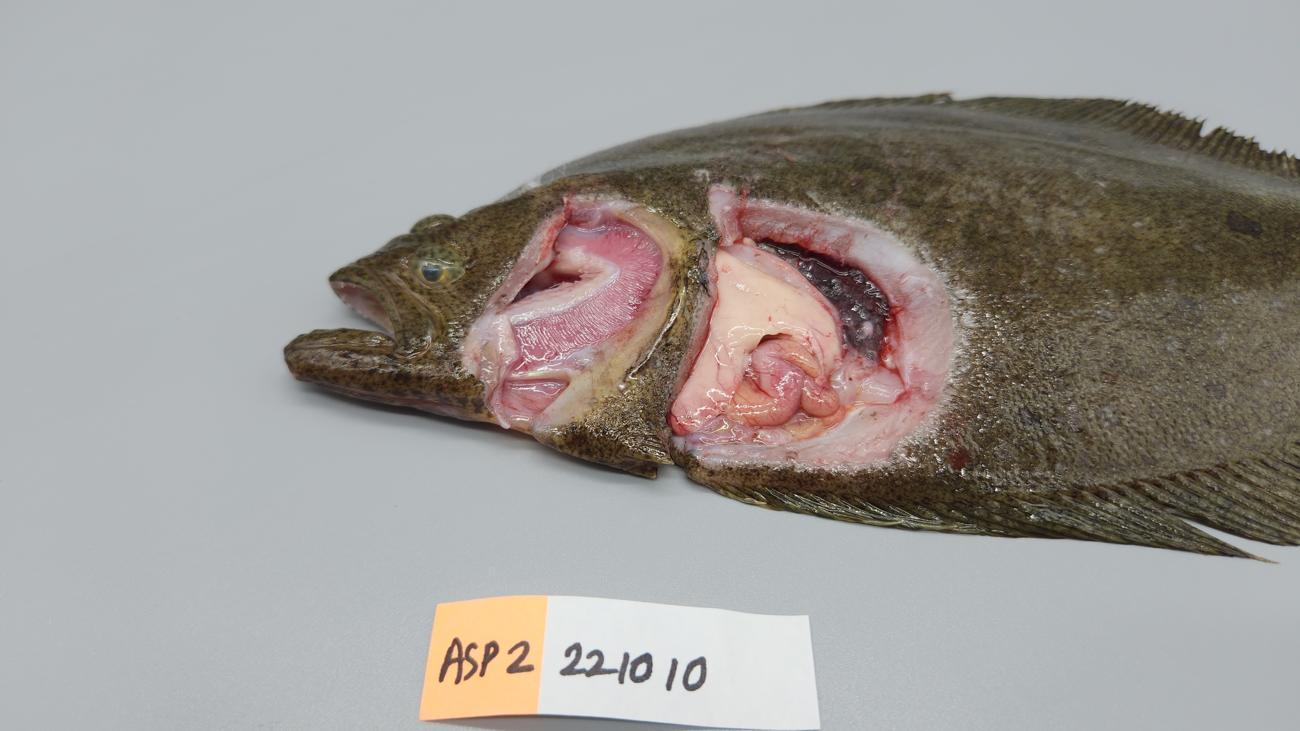SPGIP: (516, 220, 664, 363)
